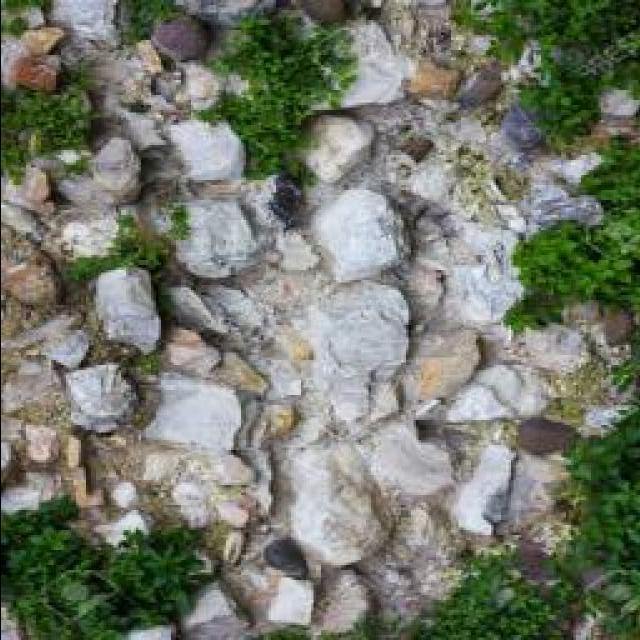vegetation: (447, 371, 624, 640), (199, 8, 360, 180), (466, 5, 640, 145), (10, 501, 180, 620), (501, 205, 640, 330), (57, 203, 177, 286), (4, 80, 101, 172)
